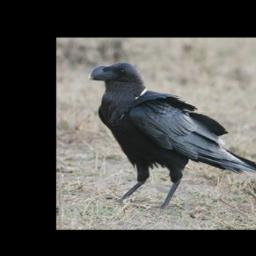Crow: (86, 62, 256, 209)
